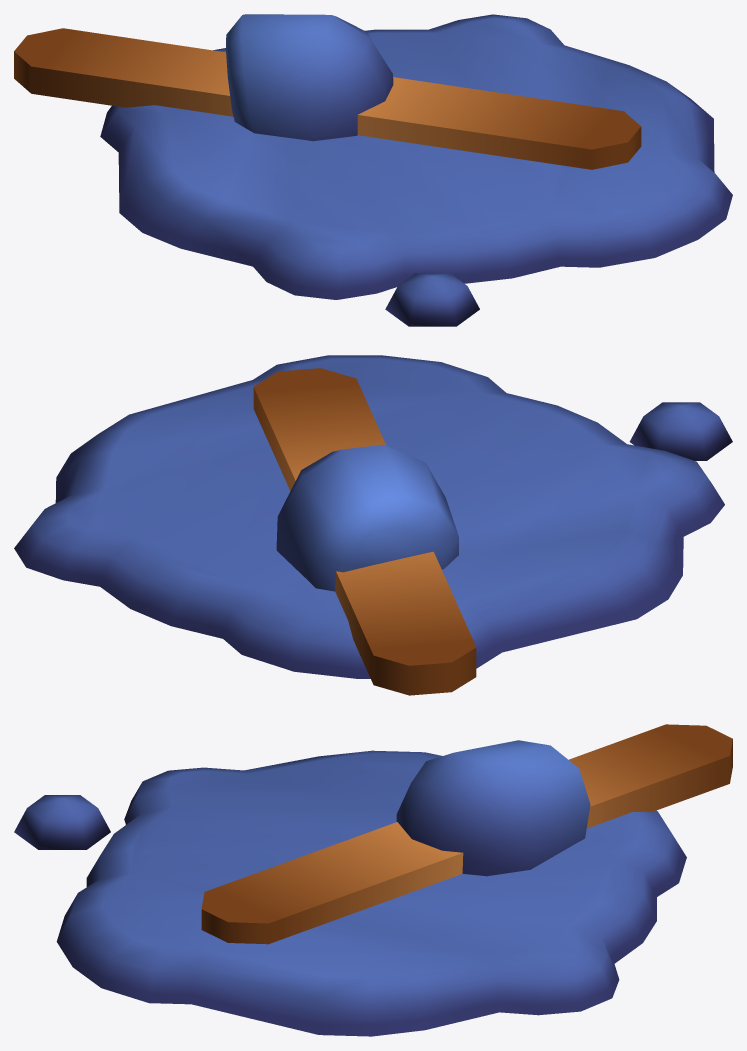
File: m_SpilledPopsicle06.fbx
3 views of the same model, one above another, from view 1: azimuth 30°, elevation 25°; view 2: azimuth 150°, elevation 25°; view 3: azimuth 270°, elevation 25° (orthographic). The views are drawn at different scales.
Visible parts, largest first — view 1: m_SpilledPopsicle06; view 2: m_SpilledPopsicle06; view 3: m_SpilledPopsicle06.
Boxes of the visible parts, x1,y1,x2,y2 form: m_SpilledPopsicle06: (14,14,732,326); m_SpilledPopsicle06: (14,355,732,695); m_SpilledPopsicle06: (14,724,732,1036).
Size of the model in its own units: 12.21 by 2.52 by 13.54.
